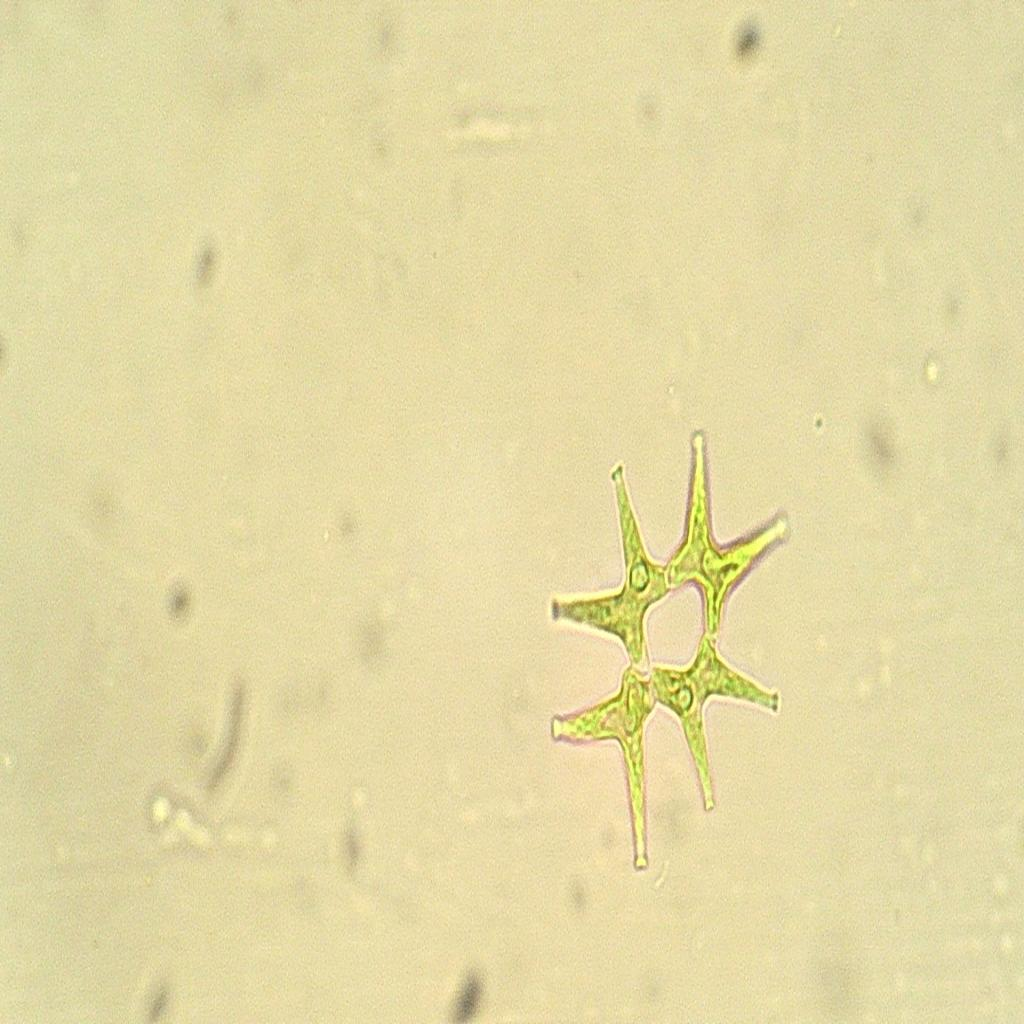Pediastrum_75FI: (528, 402, 798, 900)
